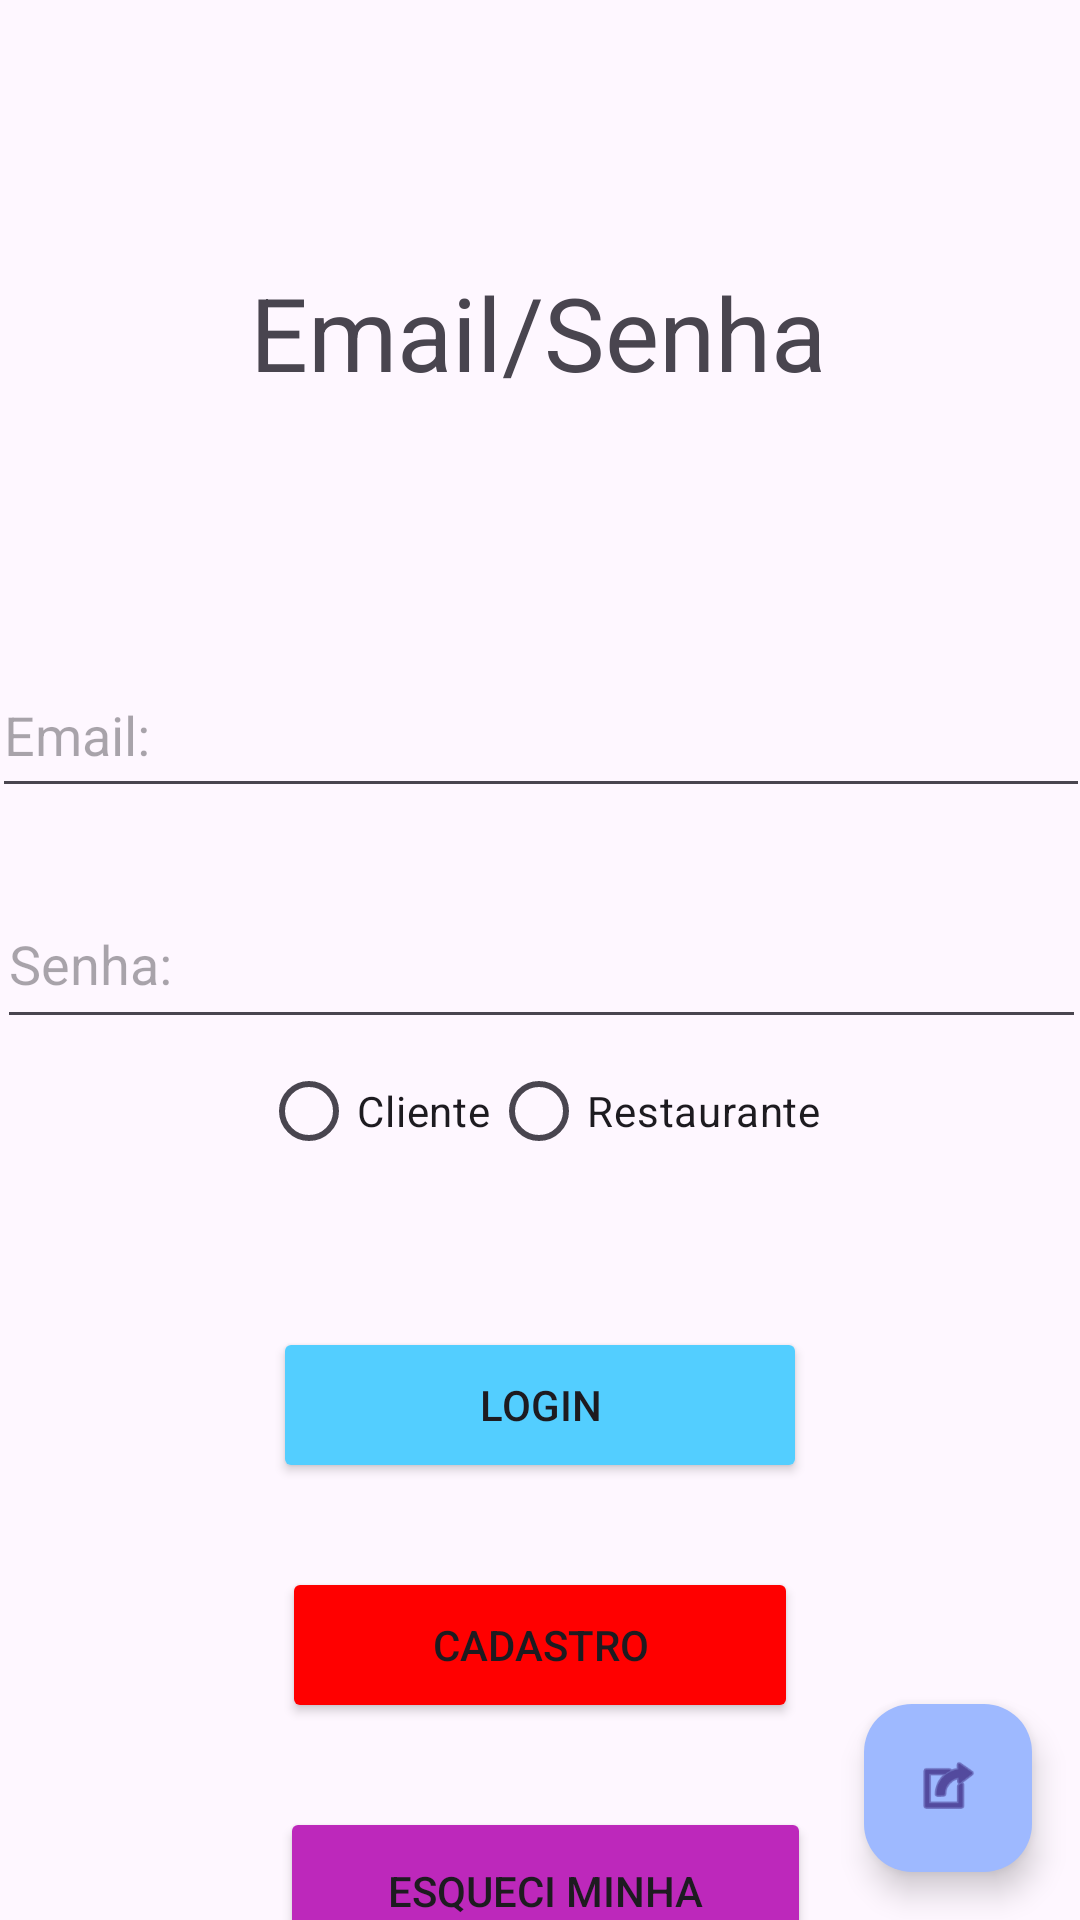

Named icons in this screenshot (1080x1920) and their bounding boxes, [x1, y1, x2, y2]:
set as: [864, 1704, 1032, 1872]
